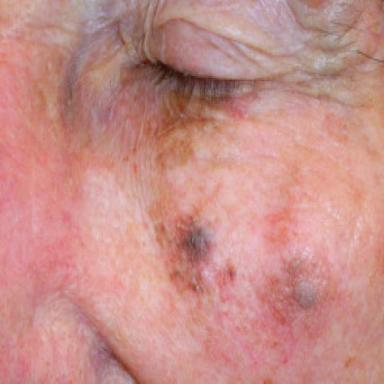Melanoma: (155, 216, 236, 292), (283, 250, 328, 309)
